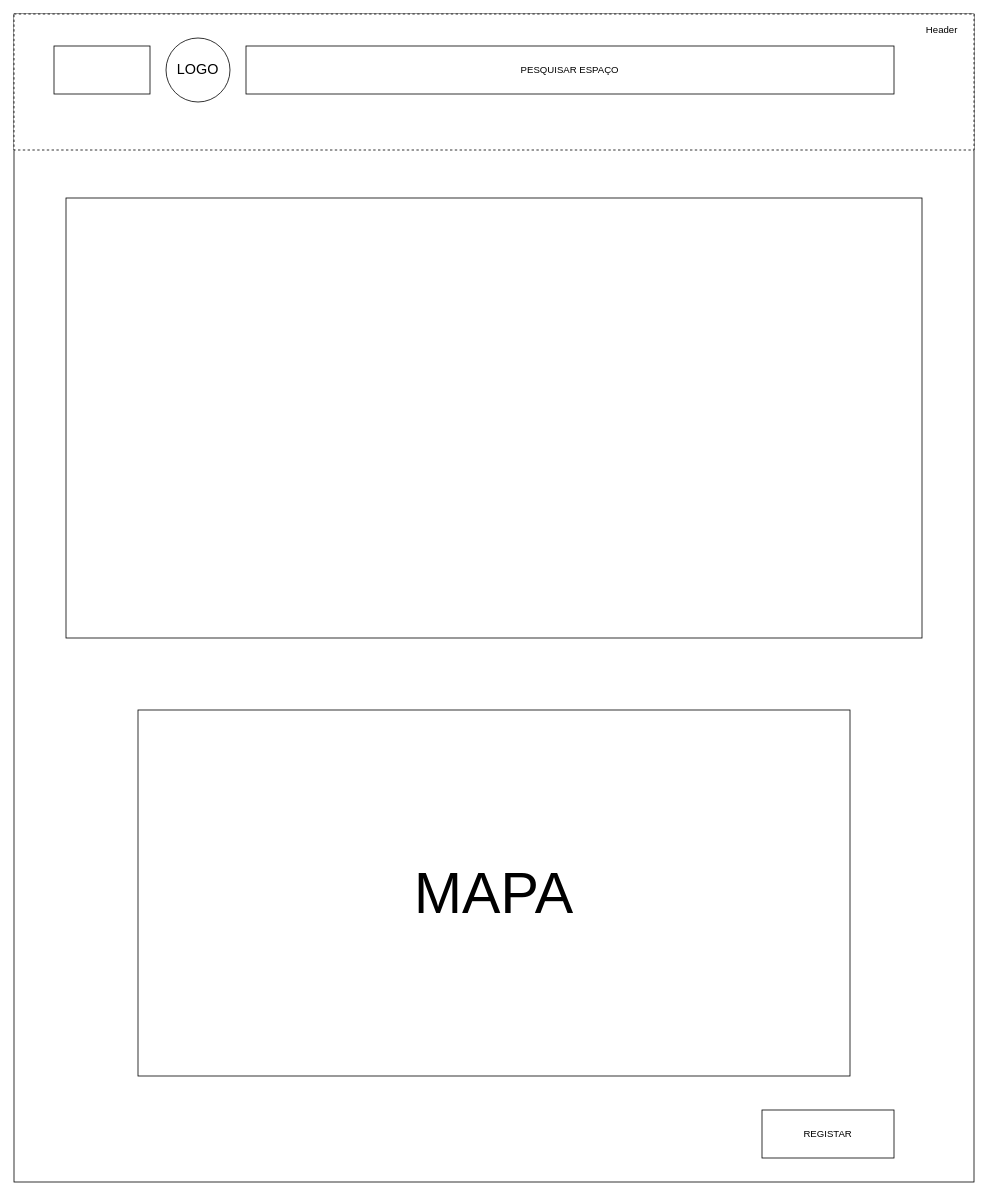
This 988x1196 diagram has some shape labels left out. The shapes that lost their labels are listed below. From the top down, each one's centre as x and y in pixels, then its label:
At (101,69): "Username".
At (493,417): "DADOS".
